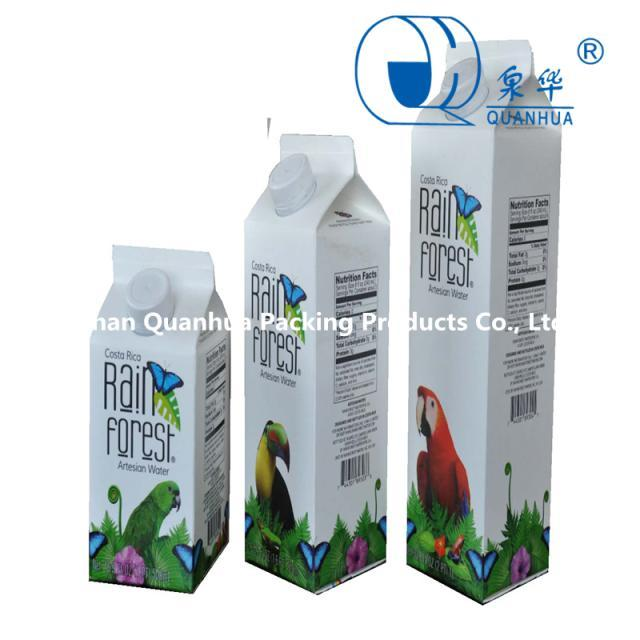Carton: (400, 21, 576, 612), (240, 116, 398, 598), (50, 217, 240, 614)
